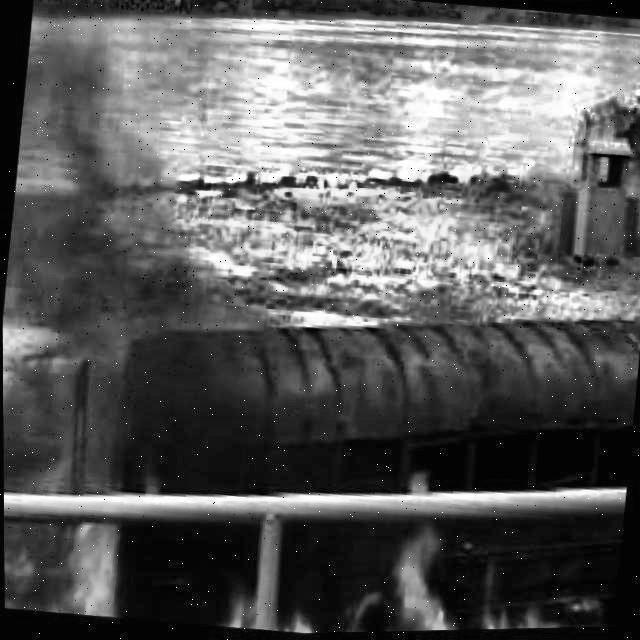Fire: (343, 538, 618, 634), (3, 516, 157, 623), (215, 564, 334, 636)
Smoke: (0, 0, 314, 434)
